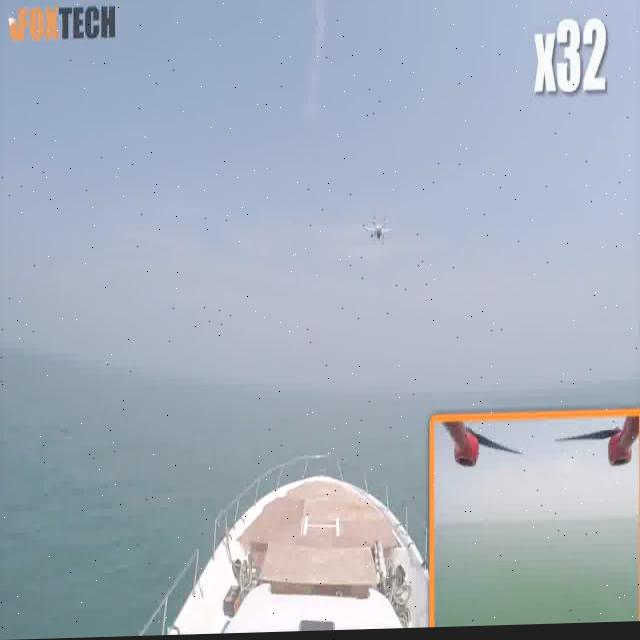drone: (359, 209, 395, 250)
